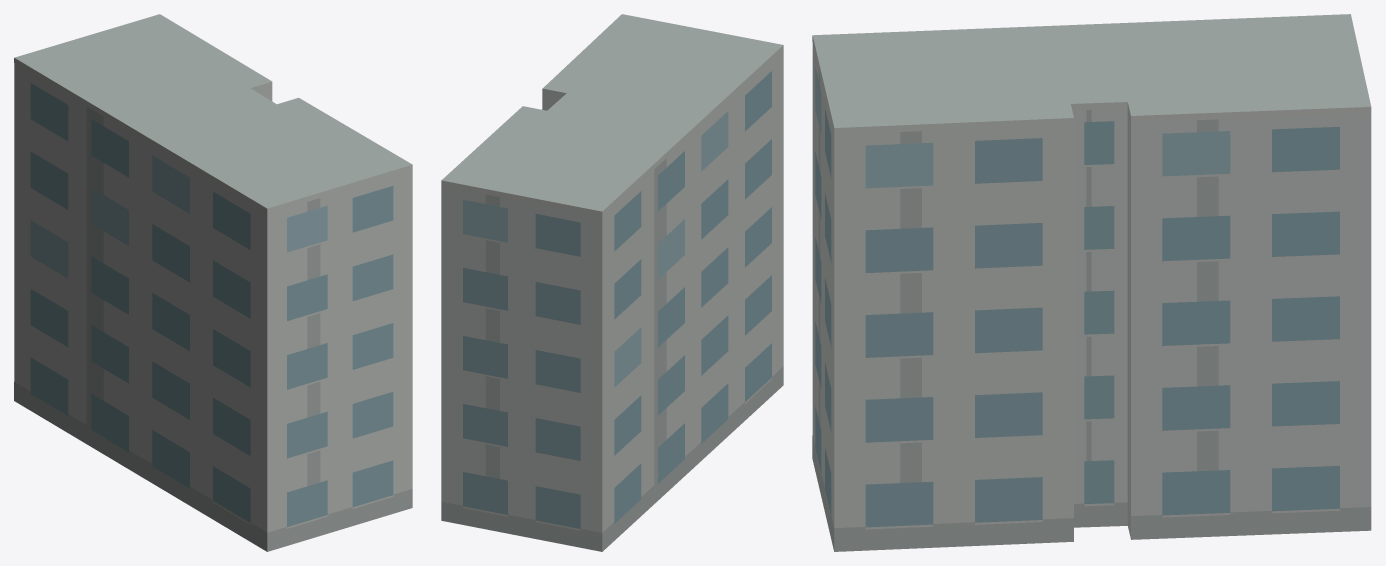
File: survey-upis-32608247.glb
3 renders of one model, left to right at view 1: azimuth 30°, elevation 25°; view 2: azimuth 150°, elevation 25°; view 3: azimuth 270°, elevation 25°, orthographic. The views are drawn at different scales.
Parts seen in each view (by area): view 1: survey-upis-32608247.tmp; view 2: survey-upis-32608247.tmp; view 3: survey-upis-32608247.tmp.
Part boxes in pixels (left/top/right/bottom): survey-upis-32608247.tmp: left=14, top=14, right=412, bottom=551; survey-upis-32608247.tmp: left=441, top=14, right=783, bottom=551; survey-upis-32608247.tmp: left=812, top=14, right=1371, bottom=551.
Bounding box in the file's own units: 8.87 × 15.35 × 18.35.
